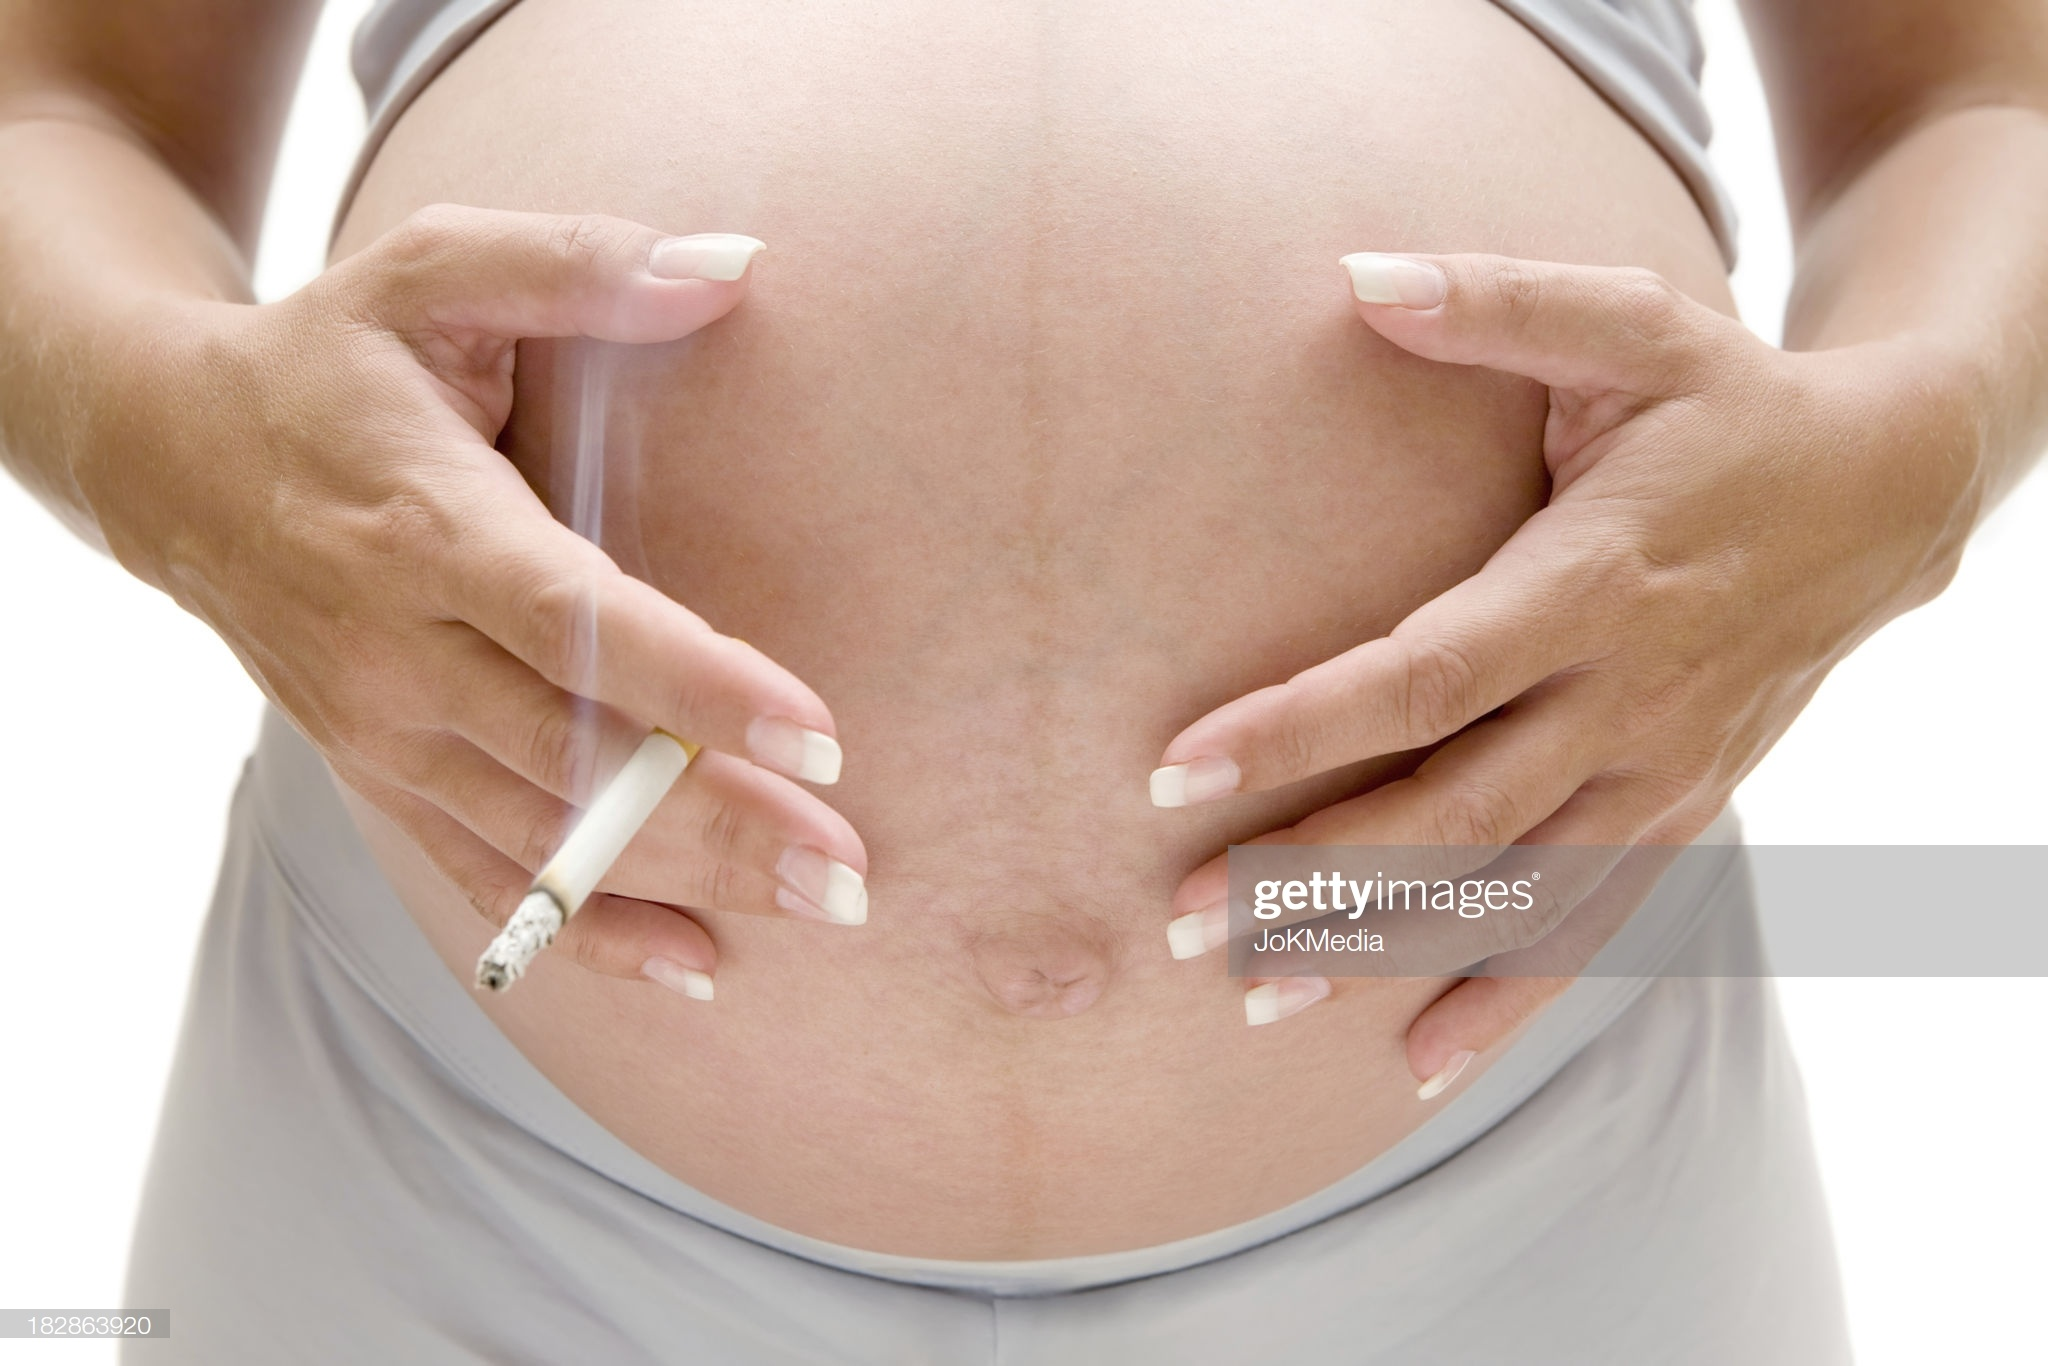sigaretta: (451, 701, 706, 1009)
